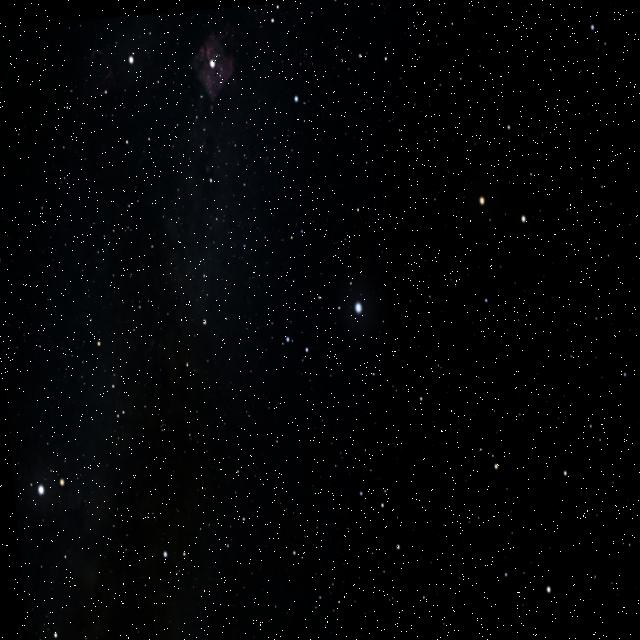Lyra: (276, 286, 372, 364)
